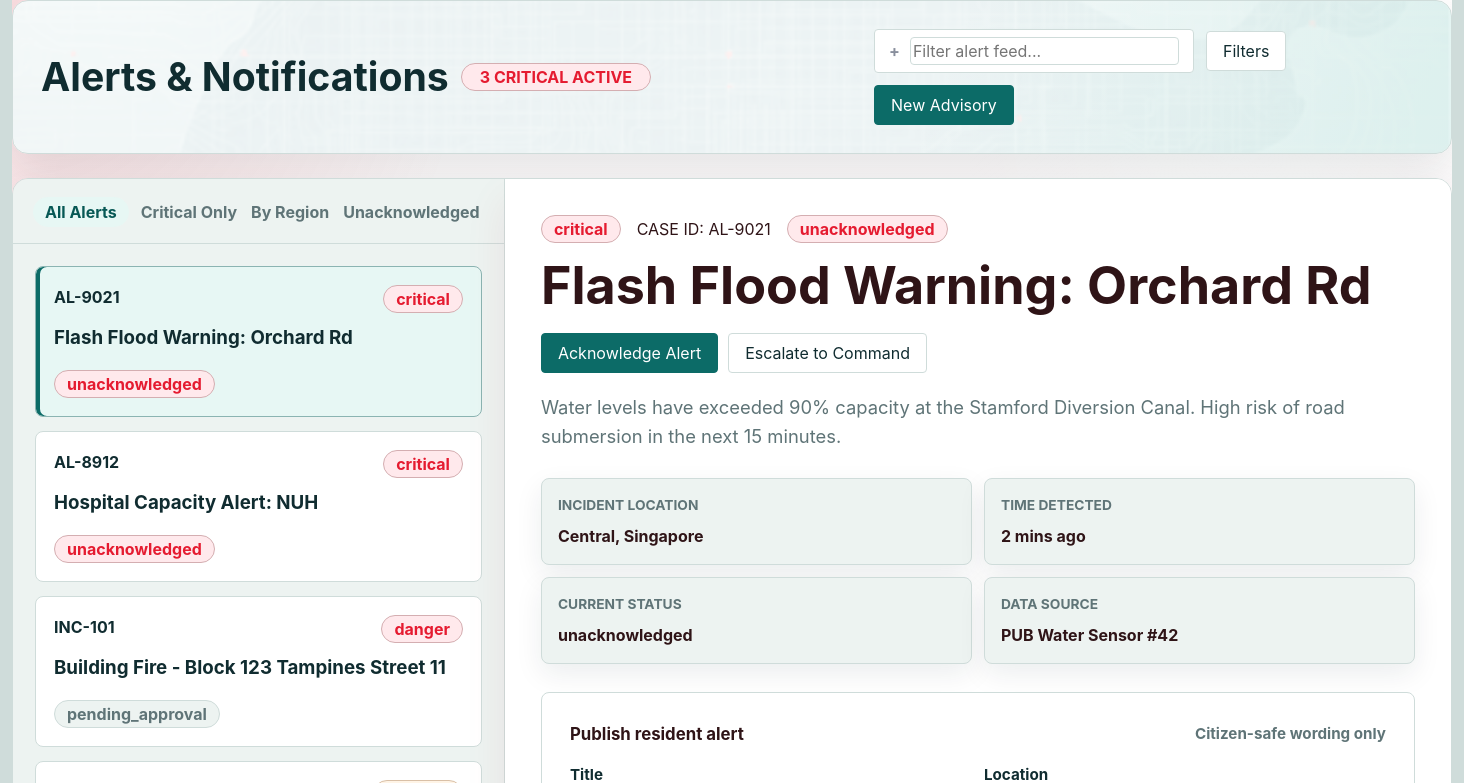
it: AlertsPage resident alert composer routing › shows live incident clusters in the feed and auto-fills the resident composer from the selected incident
Click the 3rd button named "INC-101" at (258, 672), box [35,596,482,747]
(page scrolled)
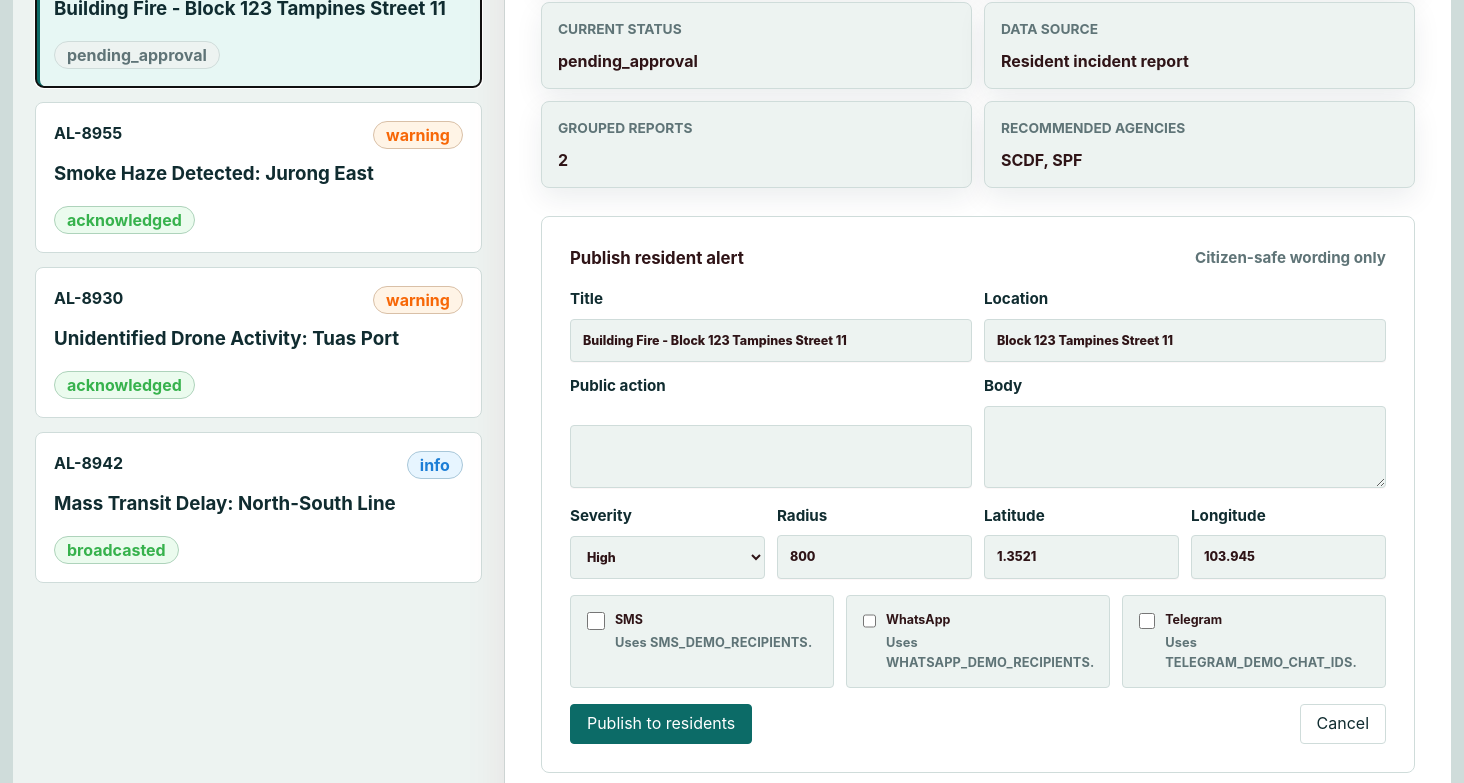
expect the text "Grouped reports" is shown: met, box [558,120,692,136]
expect the field showing "Building Fire - Block 123 Tampines Street 11" is shown: met, box [570,319,972,362]
expect the field showing "Block 123 Tampines Street 11" is shown: met, box [984,319,1386,362]
